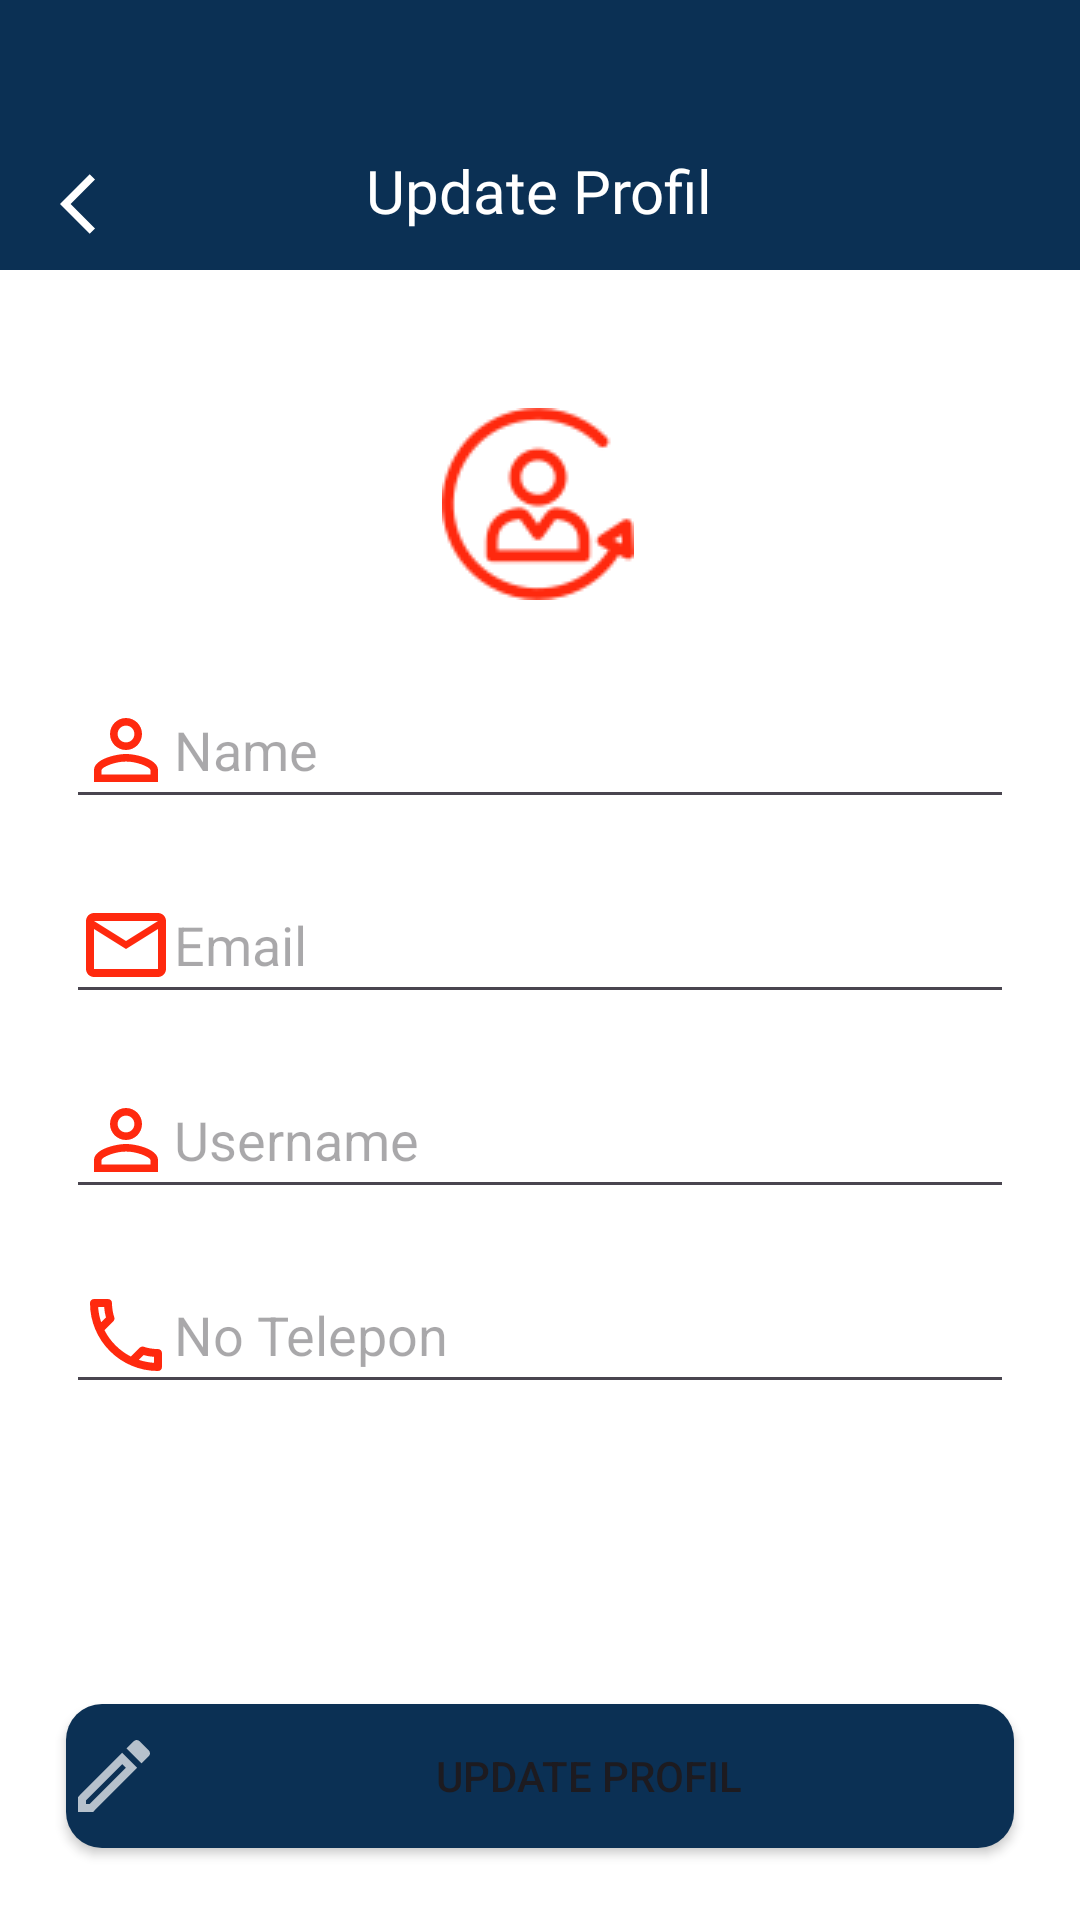

Where icons sit on this 1080 × 1920 app screen, as (x1, y1, x2, y2):
arrow back: (60, 174, 95, 234)
update user: (442, 408, 634, 600)
